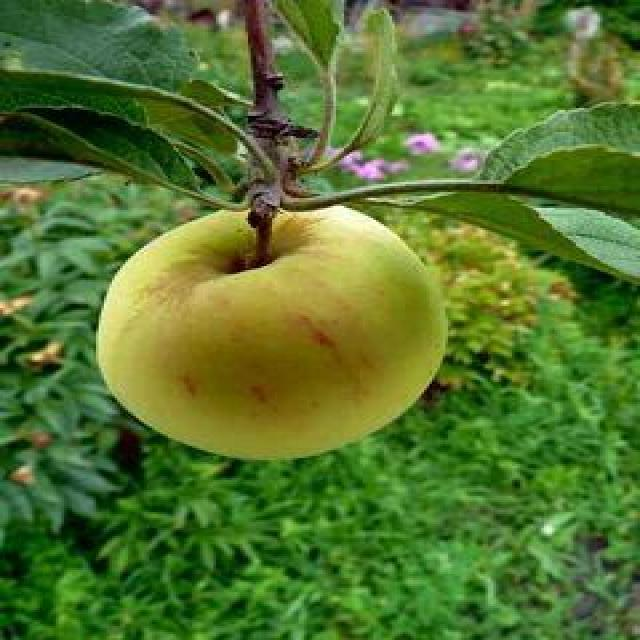Fresh Apple: (119, 210, 448, 490)
